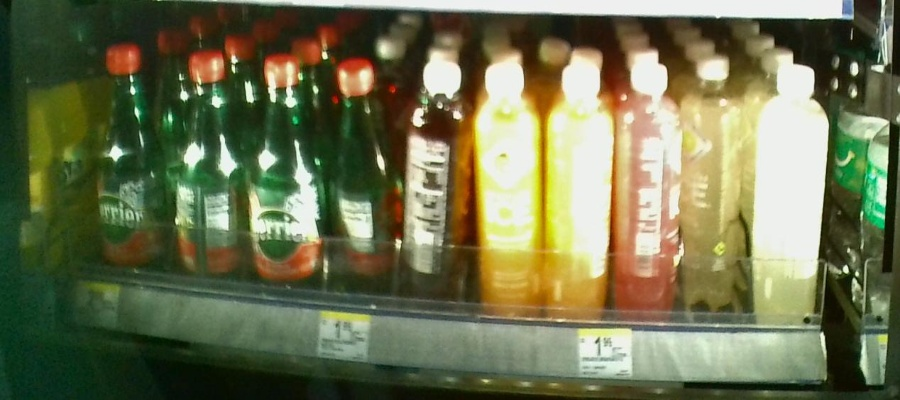bottle: (757, 59, 830, 324), (476, 60, 544, 314), (329, 55, 399, 287), (686, 56, 746, 319), (618, 61, 681, 311), (549, 59, 611, 313), (250, 54, 319, 279), (94, 36, 160, 271), (407, 57, 470, 303), (175, 48, 238, 271)
